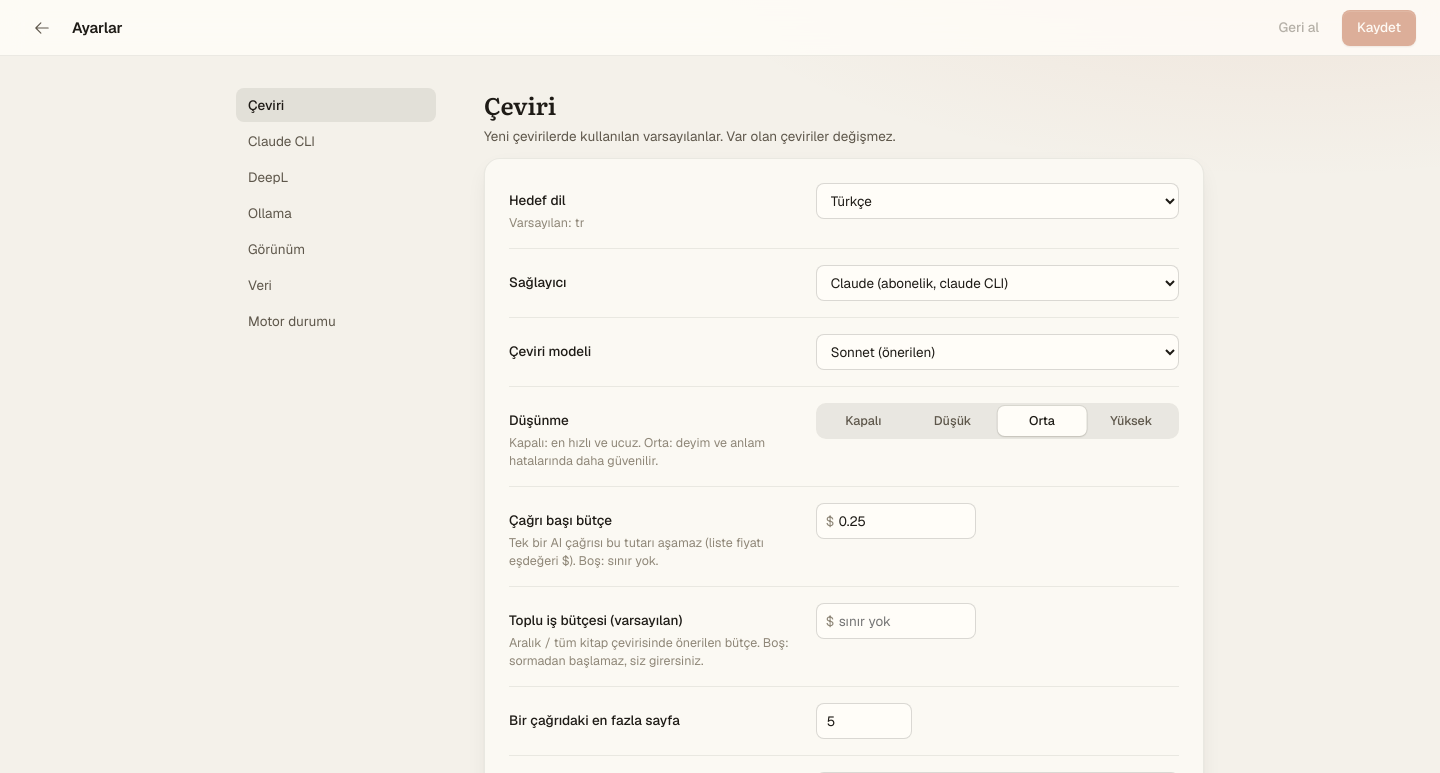
Test: SettingsScreen › saves changed settings and shows the result
Expected: the button "Kaydet" is disabled, [1342,10,1416,46]
Click the tab "Kapalı" at (863, 421), box [819,406,908,436]
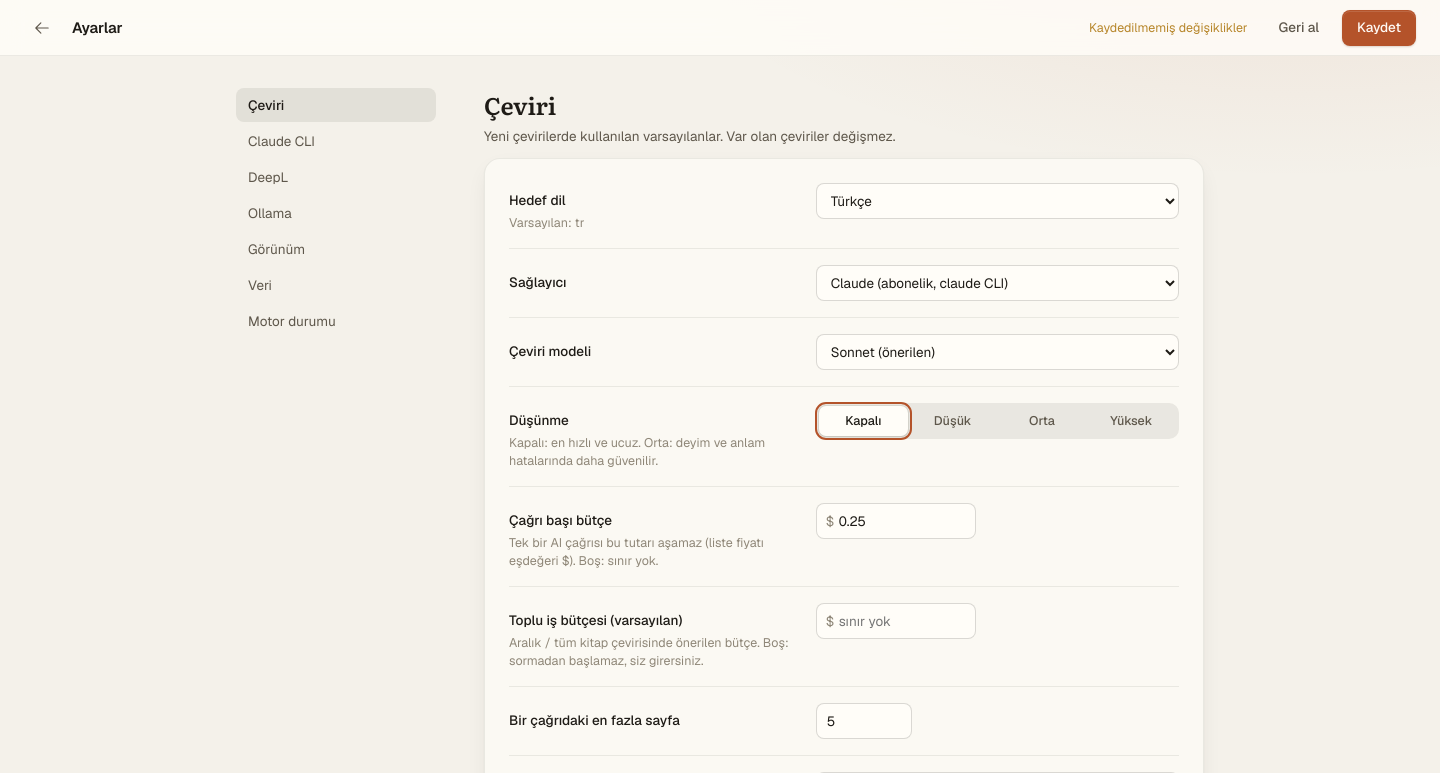
Now the text "Kaydedilmemiş değişiklikler" is shown, box [1089,19,1248,36]
Click the button "Kaydet" at (1379, 28), box [1342,10,1416,46]
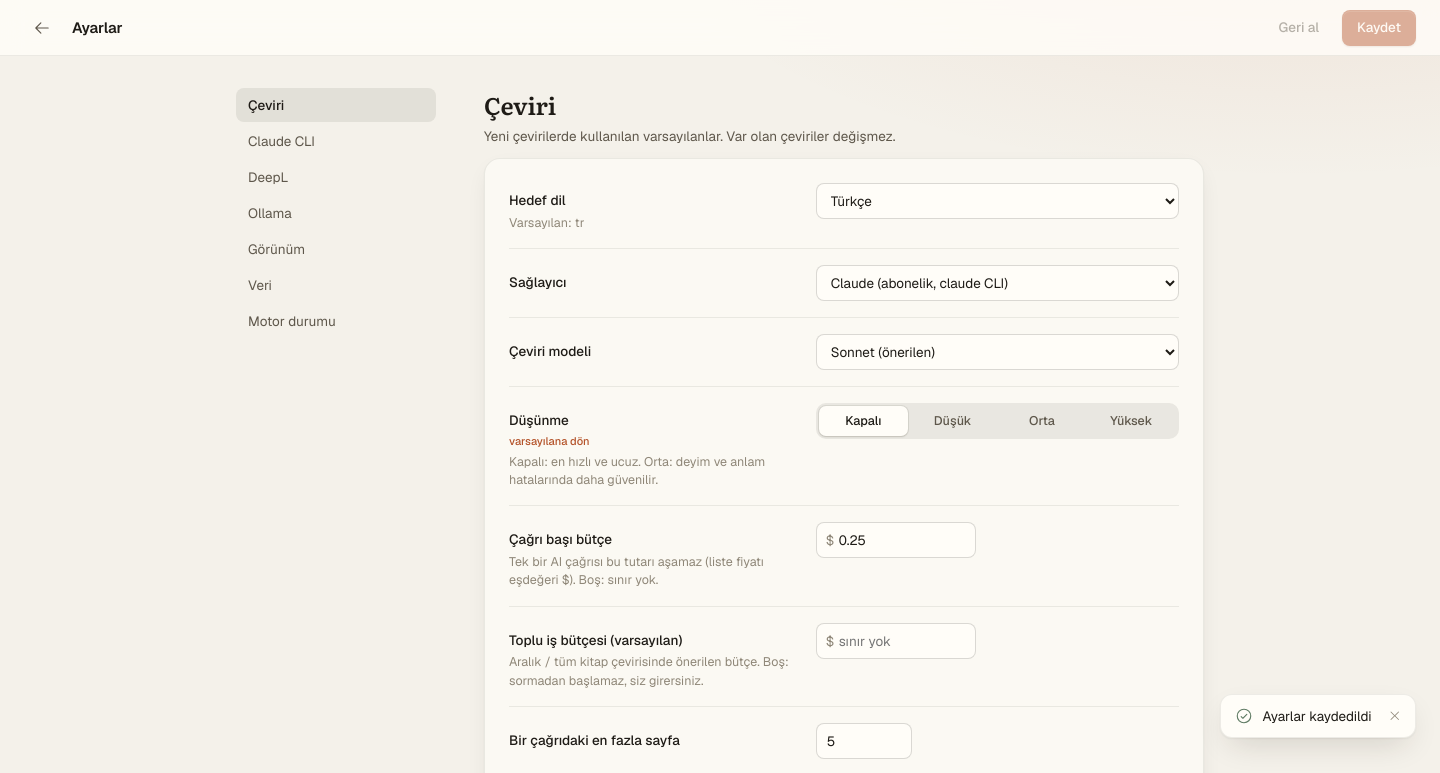
Now the text "Ayarlar kaydedildi" is shown, box [1262,706,1372,725]
Now the button "Kaydet" is disabled, box [1342,10,1416,46]
